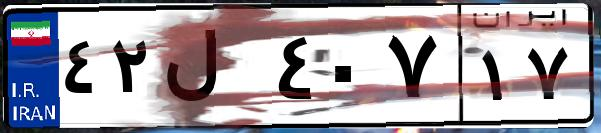0: (330, 28, 385, 110)
1: (475, 38, 525, 113)
2: (110, 28, 158, 98)
4: (270, 28, 330, 110), (57, 26, 110, 100)
7: (385, 28, 445, 110), (525, 38, 570, 115)
ل: (158, 20, 270, 120)
